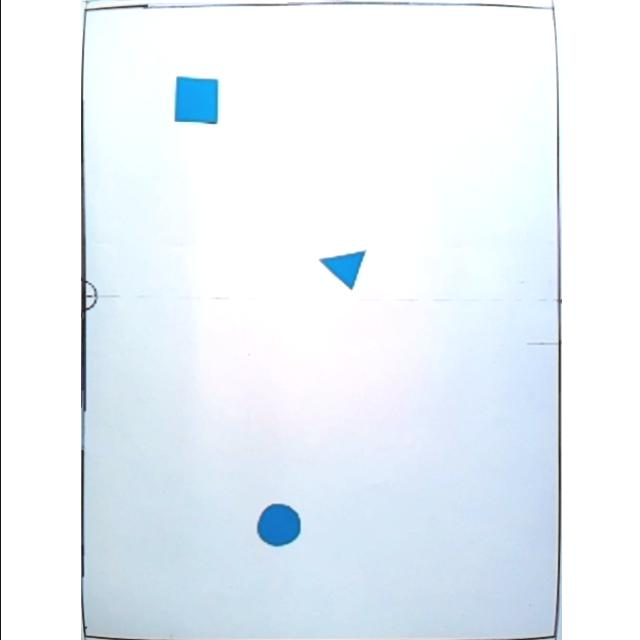blueCircle: (254, 502, 300, 550)
blueSquare: (170, 74, 218, 124)
blueTriangle: (314, 247, 366, 290)
